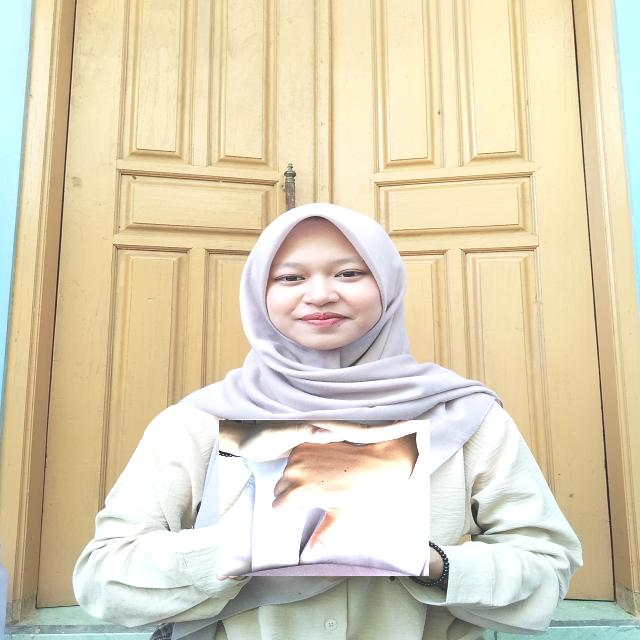cantik: (219, 419, 430, 576)
